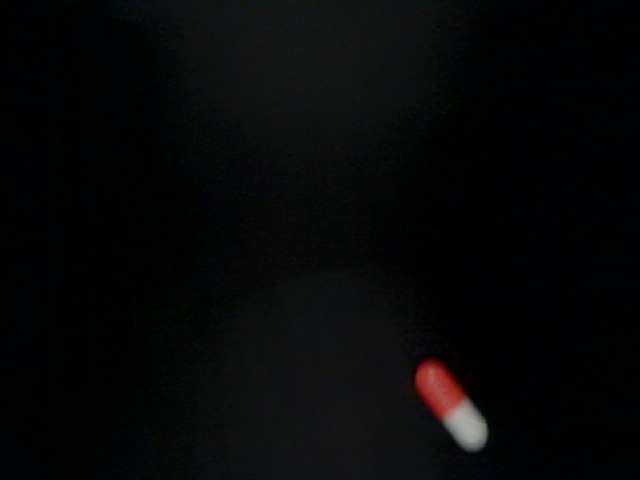YHLJ: (322, 344, 426, 417)
